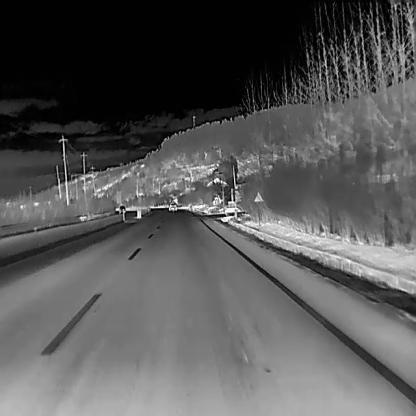car: (117, 203, 125, 215), (168, 200, 177, 210)
